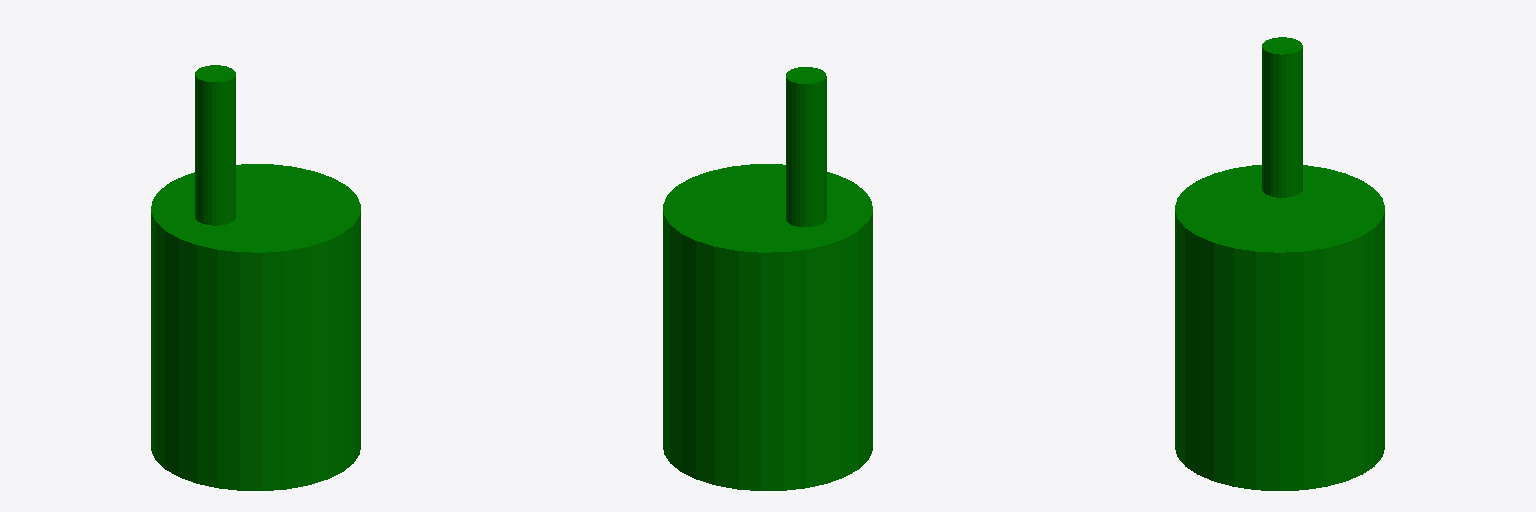
File: point.obj
3 views of the same model, side by side, from view 1: azimuth 30°, elevation 25°; view 2: azimuth 150°, elevation 25°; view 3: azimuth 270°, elevation 25° (orthographic).
Visible parts, largest first — view 1: Circle001; view 2: Circle001; view 3: Circle001.
Part boxes in pixels (bbox=[...]): Circle001: bbox=[151, 65, 360, 490]; Circle001: bbox=[663, 67, 872, 490]; Circle001: bbox=[1175, 37, 1384, 490].
Size of the model in its own units: 4 by 8 by 4.